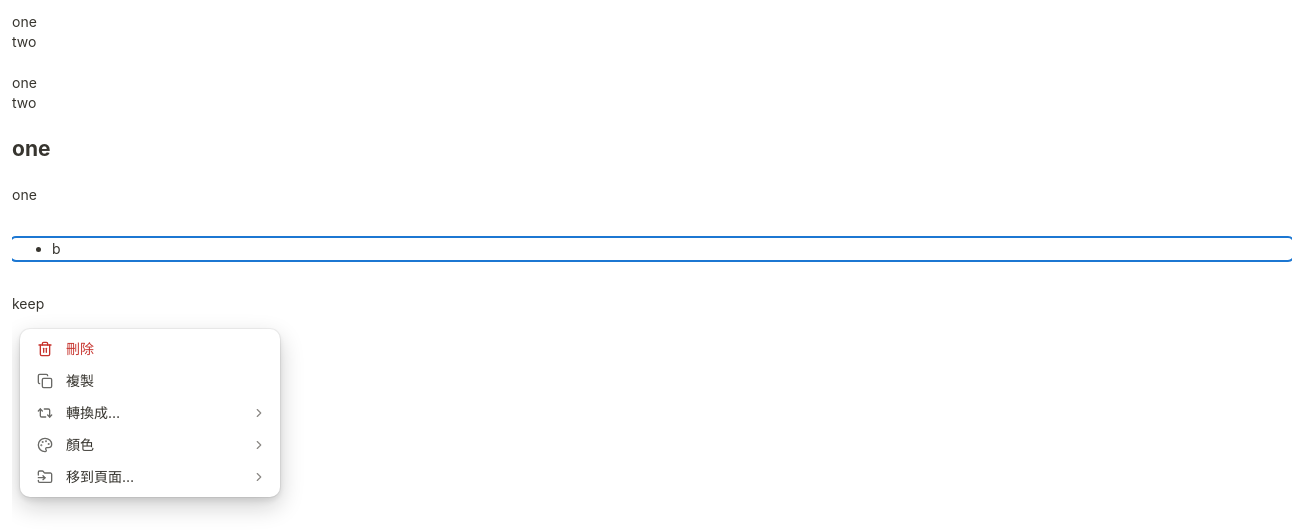
Test case: block menu (UI-3) › 移到頁面… keeps the block and shows an error when it cannot be done
This screenshot has width=1292, height=532.
What coordinates should you click on to do the following:
click the menu item "移到頁面…"
I would click on:
 (150, 477)
Its box is [24,461,276,493].
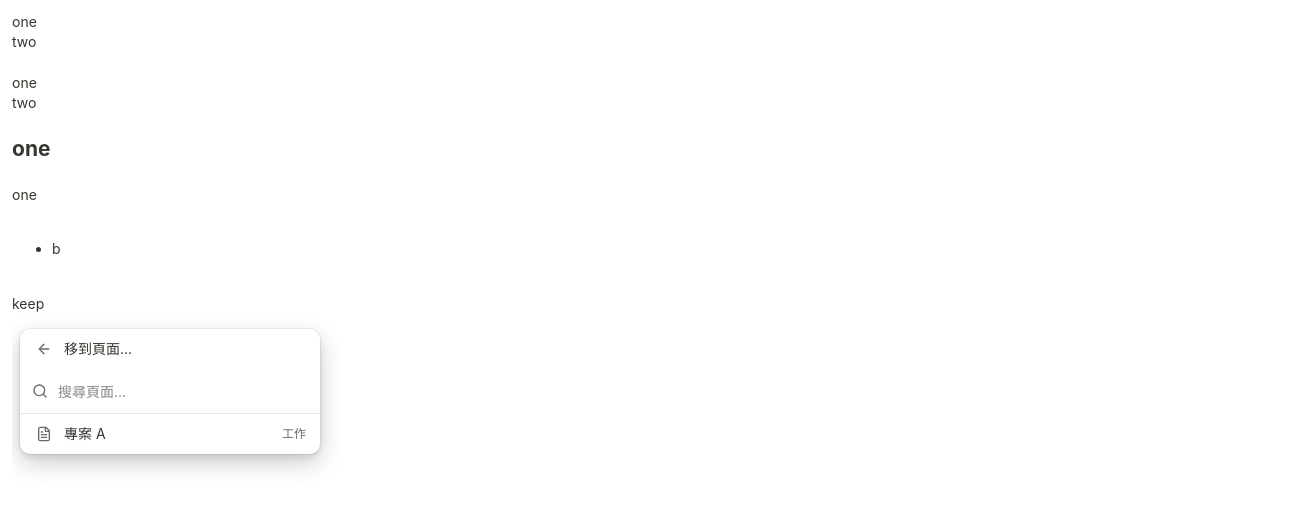
What coordinates should you click on to do the following:
click the text "專案 A"
I would click on:
 (85, 433)
Its box is [64,425,106,442].
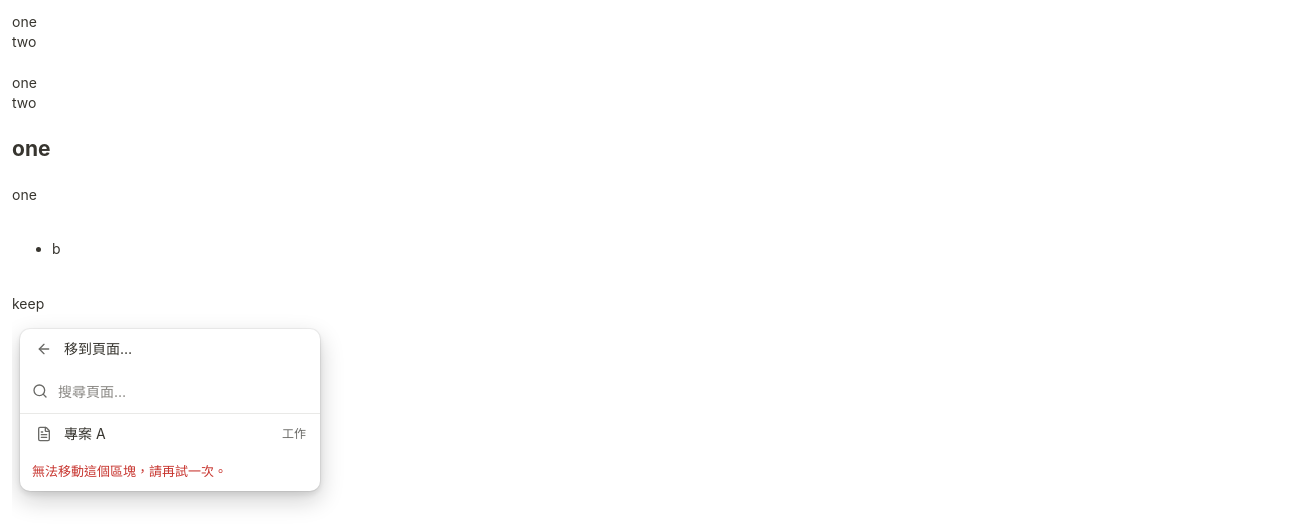
Now the message reads "無法移動這個區塊，請再試一次。", box [32,463,227,479]
